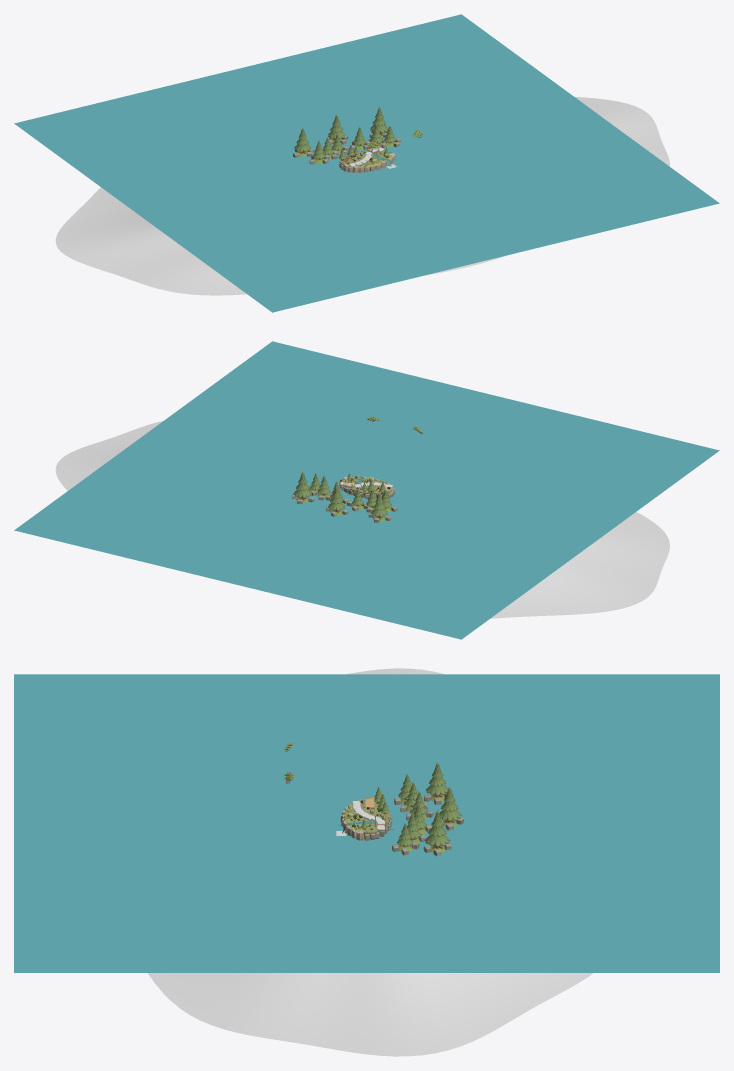
Rendered from FirstTrail.fbx.
3 renders of one model, top to bottom at view 1: azimuth 30°, elevation 25°; view 2: azimuth 150°, elevation 25°; view 3: azimuth 270°, elevation 25°, orthographic. The views are drawn at different scales.
Visible parts, largest first — view 1: Lake surround.002, Submerged sandy lake shelf.002; view 2: Lake surround.002, Submerged sandy lake shelf.002; view 3: Lake surround.002, Submerged sandy lake shelf.002.
Part boxes in pixels (x1,y1,x2,y2): Lake surround.002: [14, 14, 719, 312]; Submerged sandy lake shelf.002: [55, 96, 669, 295]; Lake surround.002: [14, 341, 719, 639]; Submerged sandy lake shelf.002: [55, 421, 669, 618]; Lake surround.002: [14, 674, 719, 972]; Submerged sandy lake shelf.002: [148, 668, 593, 1056].
Size of the model in its own units: 9104 by 1144 by 7000.
